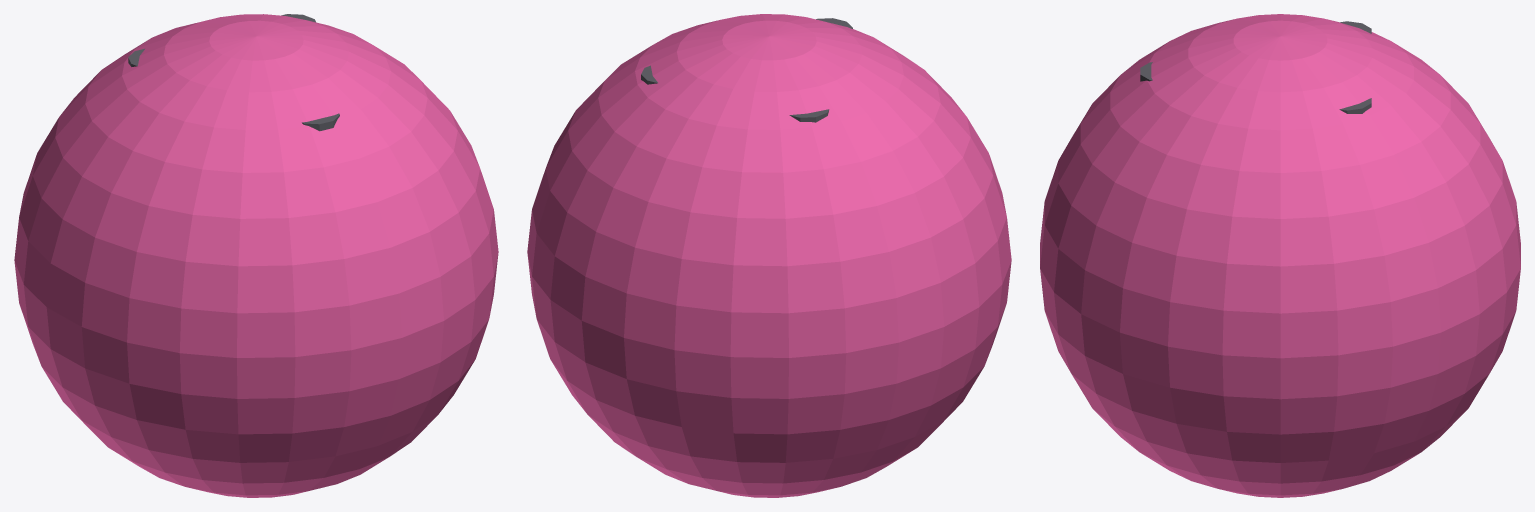
The model's file is bowling-alley-and-pool-hall-bowling-ball-de3b7f6d__33848.glb.
3 views of the same model, side by side, from view 1: azimuth 30°, elevation 25°; view 2: azimuth 150°, elevation 25°; view 3: azimuth 270°, elevation 25° (orthographic).
Visible parts, largest first — view 1: ball/accent, ball/dark; view 2: ball/accent, ball/dark; view 3: ball/accent, ball/dark.
Boxes of the visible parts, bbox=[...] form: ball/accent: bbox=[14, 14, 498, 497]; ball/dark: bbox=[128, 14, 339, 131]; ball/accent: bbox=[527, 14, 1011, 497]; ball/dark: bbox=[641, 18, 852, 122]; ball/accent: bbox=[1040, 14, 1520, 497]; ball/dark: bbox=[1140, 21, 1371, 113].
Bounding box in the file's own units: 0.2176 × 0.2176 × 0.216.
